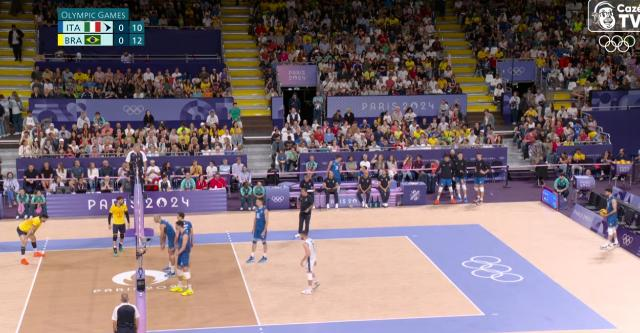Levantador: (108, 197, 128, 253)
Libero: (298, 229, 320, 296)
